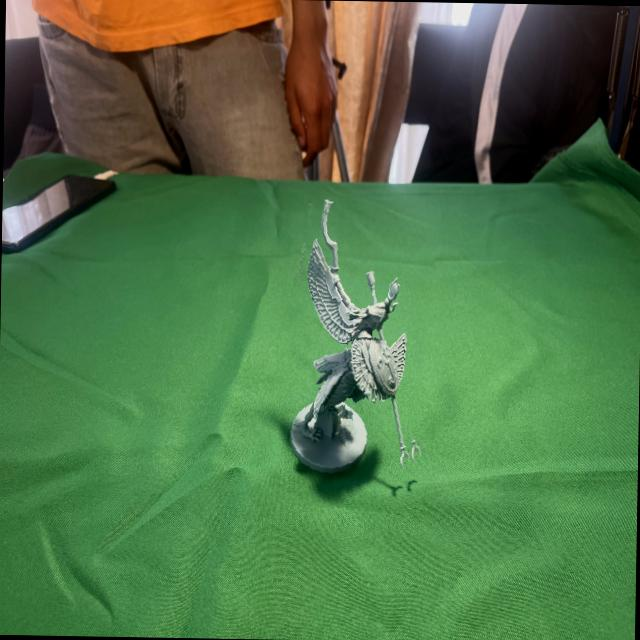isis: (278, 193, 434, 512)
